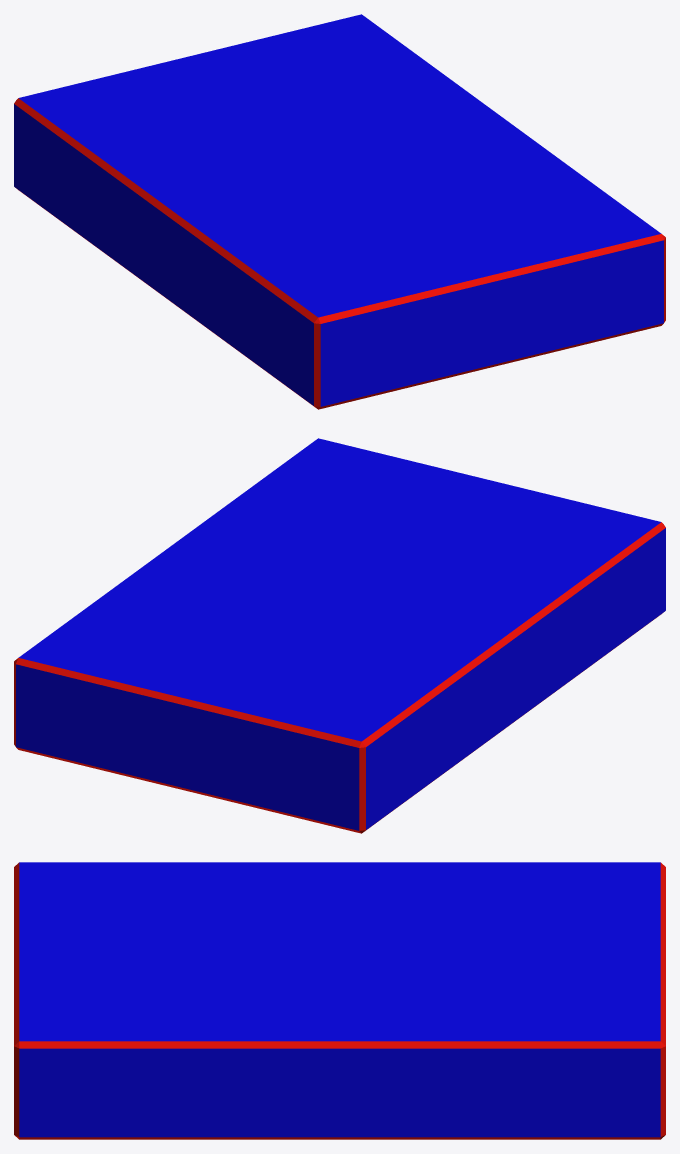
File: L4_Door.fbx
3 renders of one model, top to bottom at view 1: azimuth 30°, elevation 25°; view 2: azimuth 150°, elevation 25°; view 3: azimuth 270°, elevation 25°, orthographic. The views are drawn at different scales.
Parts seen in each view (by area): view 1: L4_Door; view 2: L4_Door; view 3: L4_Door.
Part boxes in pixels (x1,y1,x2,y2): L4_Door: (14,14,665,409); L4_Door: (14,438,665,833); L4_Door: (14,862,665,1139).
Size of the model in its own units: 400 by 100 by 600.
